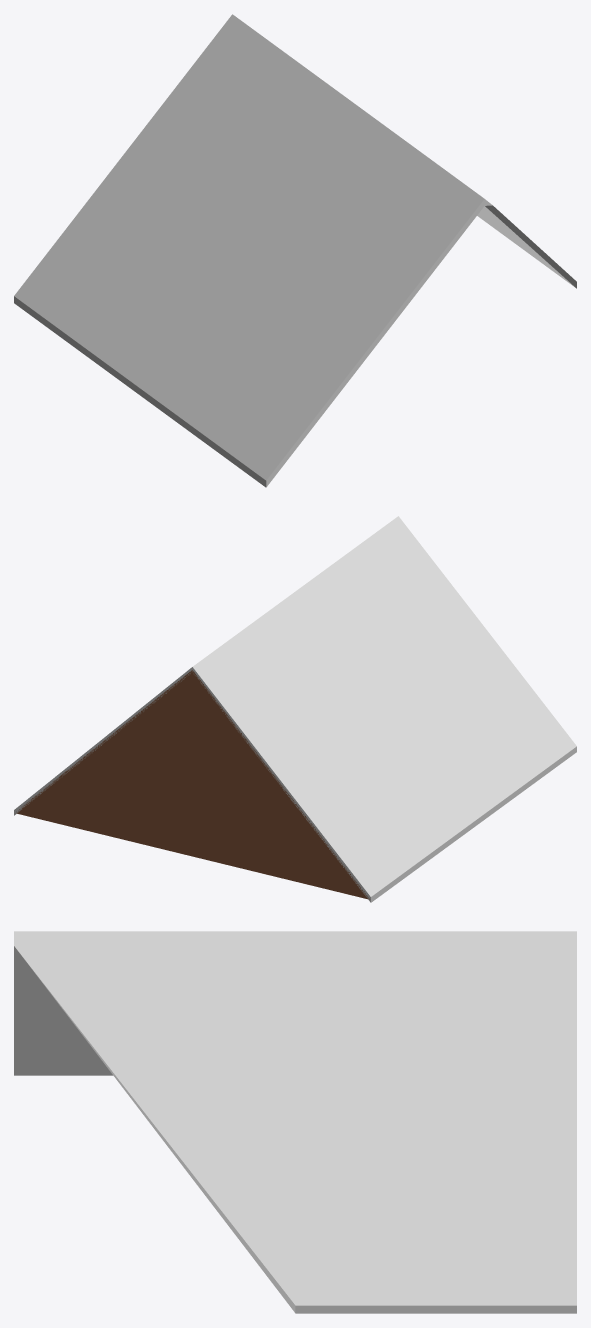
File: pixel_art_128x128_gable.glb
3 views of the same model, one above another, from view 1: azimuth 30°, elevation 25°; view 2: azimuth 150°, elevation 25°; view 3: azimuth 270°, elevation 25° (orthographic). The views are drawn at different scales.
Visible parts, largest first — view 1: Cube; view 2: Cube, Cube.001; view 3: Cube.
Boxes of the visible parts, <box> form: Cube: <box>14,14,576,487</box>; Cube: <box>14,516,576,902</box>; Cube.001: <box>16,670,369,899</box>; Cube: <box>14,931,576,1313</box>.
Size of the model in its own units: 2 by 1.03 by 2.
1 material, 1 textured.
